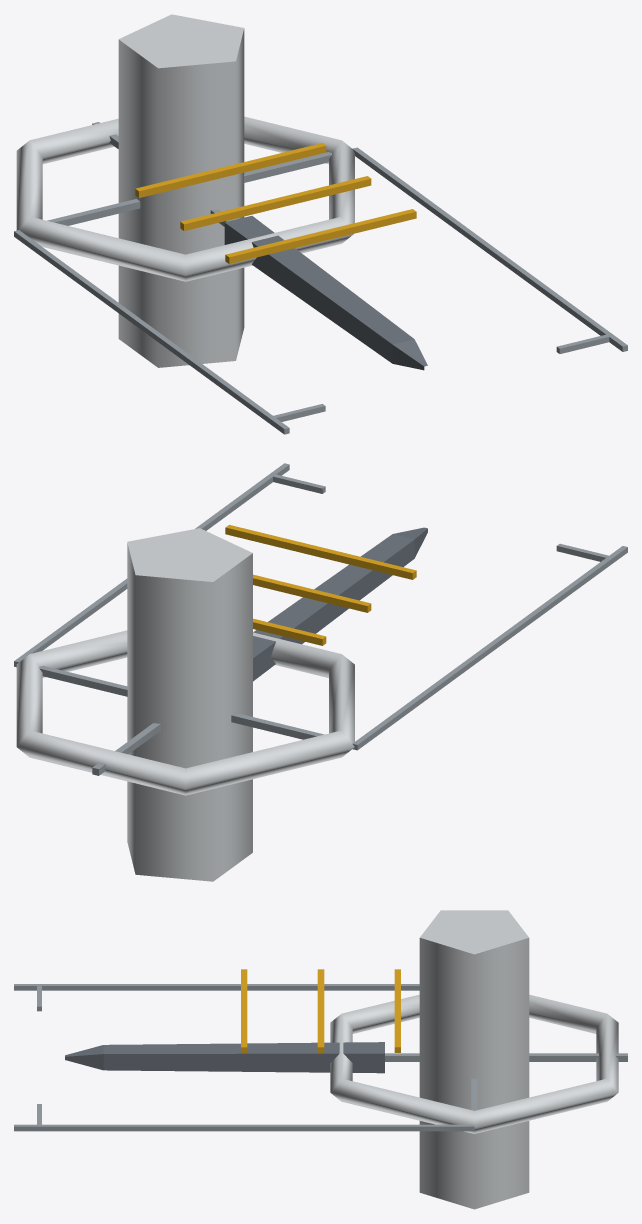
The model's file is space_orbital_shipyard_t3_lod2.glb.
3 views of the same model, one above another, from view 1: azimuth 30°, elevation 25°; view 2: azimuth 150°, elevation 25°; view 3: azimuth 270°, elevation 25° (orthographic). The views are drawn at different scales.
Visible parts, largest first — view 1: body, ring, dock_arm_0, dock_arm_1, crane_1, crane_2, crane_0; view 2: body, ring, dock_arm_0, dock_arm_1, crane_2, crane_1, crane_0; view 3: body, ring, dock_arm_1, dock_arm_0, crane_1, crane_0, crane_2.
Boxes of the visible parts, x1=… form: body: x1=118, y1=14, x2=427, y2=370; ring: x1=16, y1=116, x2=354, y2=281; dock_arm_0: x1=14, y1=230, x2=325, y2=434; dock_arm_1: x1=352, y1=147, x2=627, y2=353; crane_1: x1=180, y1=176, x2=371, y2=230; crane_2: x1=225, y1=209, x2=416, y2=263; crane_0: x1=135, y1=143, x2=326, y2=197; body: x1=127, y1=527, x2=427, y2=881; ring: x1=16, y1=630, x2=354, y2=795; dock_arm_0: x1=352, y1=543, x2=627, y2=750; dock_arm_1: x1=14, y1=463, x2=325, y2=667; crane_2: x1=225, y1=524, x2=416, y2=579; crane_1: x1=253, y1=574, x2=371, y2=612; crane_0: x1=253, y1=618, x2=326, y2=645; body: x1=65, y1=910, x2=529, y2=1209; ring: x1=330, y1=994, x2=627, y2=1133; dock_arm_1: x1=14, y1=1104, x2=474, y2=1131; dock_arm_0: x1=14, y1=984, x2=419, y2=1011; crane_1: x1=317, y1=969, x2=324, y2=1052; crane_0: x1=394, y1=969, x2=400, y2=1052; crane_2: x1=241, y1=969, x2=247, y2=1052.
Size of the model in its own units: 26.4 by 22 by 48.
